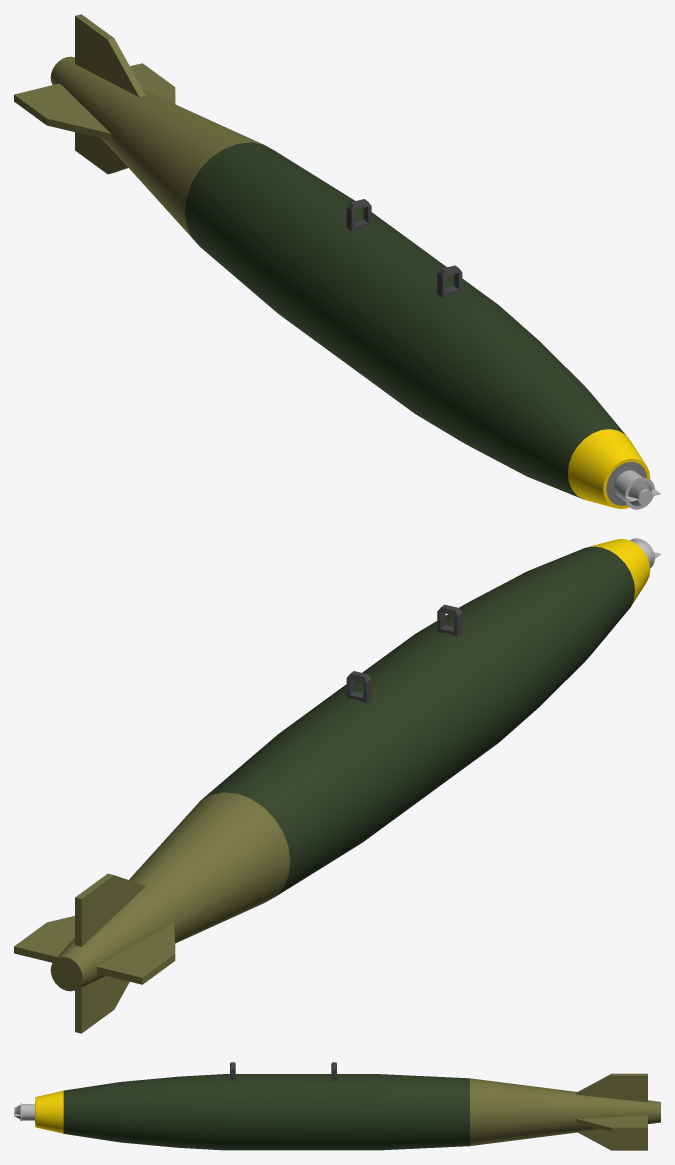
The model's file is MK-81 LDGP.glb.
3 views of the same model, one above another, from view 1: azimuth 30°, elevation 25°; view 2: azimuth 150°, elevation 25°; view 3: azimuth 270°, elevation 25° (orthographic). The views are drawn at different scales.
Visible parts, largest first — view 1: Mk-82 Standard Tail; view 2: Mk-82 Standard Tail; view 3: Mk-82 Standard Tail.
Part boxes in pixels (x1,y1,x2,y2): Mk-82 Standard Tail: (14,14,660,509); Mk-82 Standard Tail: (14,538,660,1033); Mk-82 Standard Tail: (14,1062,660,1150).
Size of the model in its own units: 0.2386 by 0.2719 by 1.86.
Materials: 2 (2 with a texture image).
